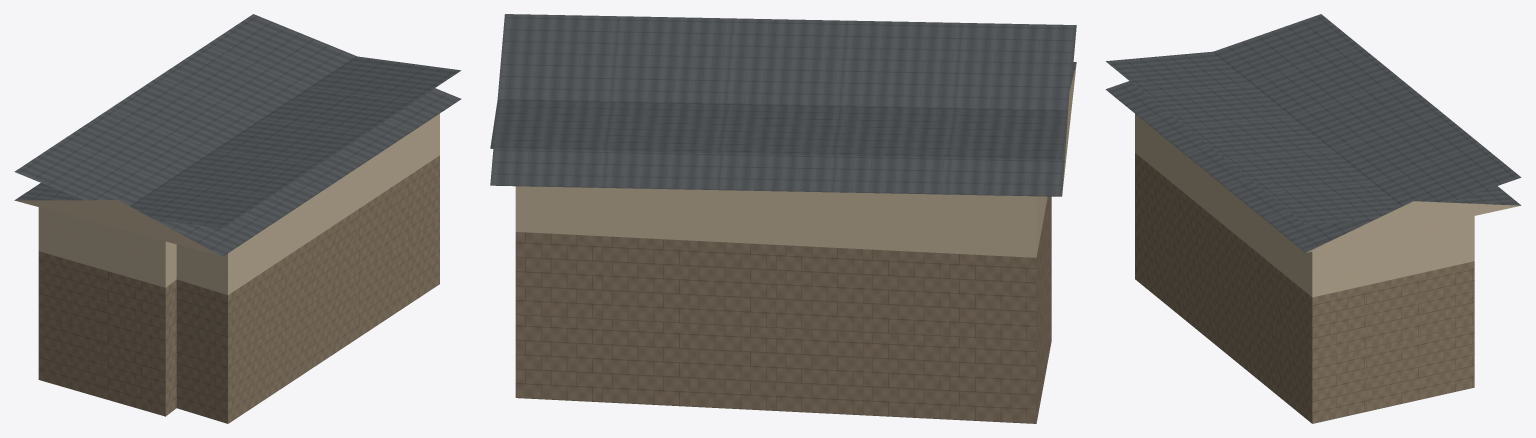
Rendered from bld_c19_27_393.gltf.
3 views of the same model, side by side, from view 1: azimuth 30°, elevation 25°; view 2: azimuth 150°, elevation 25°; view 3: azimuth 270°, elevation 25° (orthographic). The views are drawn at different scales.
Parts seen in each view (by area): view 1: bld_c19_27_393; view 2: bld_c19_27_393; view 3: bld_c19_27_393.
Boxes of the visible parts, <box> form: bld_c19_27_393: <box>14,14,461,423</box>; bld_c19_27_393: <box>490,14,1076,423</box>; bld_c19_27_393: <box>1106,14,1521,423</box>.
Size of the model in its own units: 16.08 by 7.4 by 13.42.
Materials: 4 (4 with a texture image).
